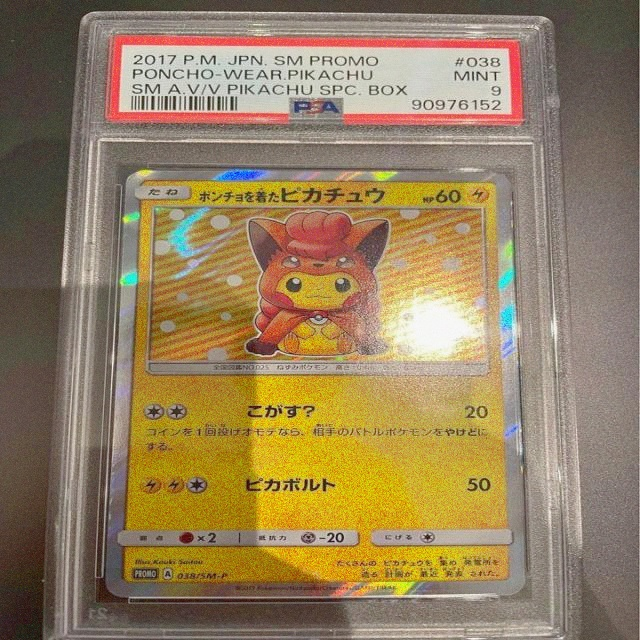card: (104, 170, 528, 598)
